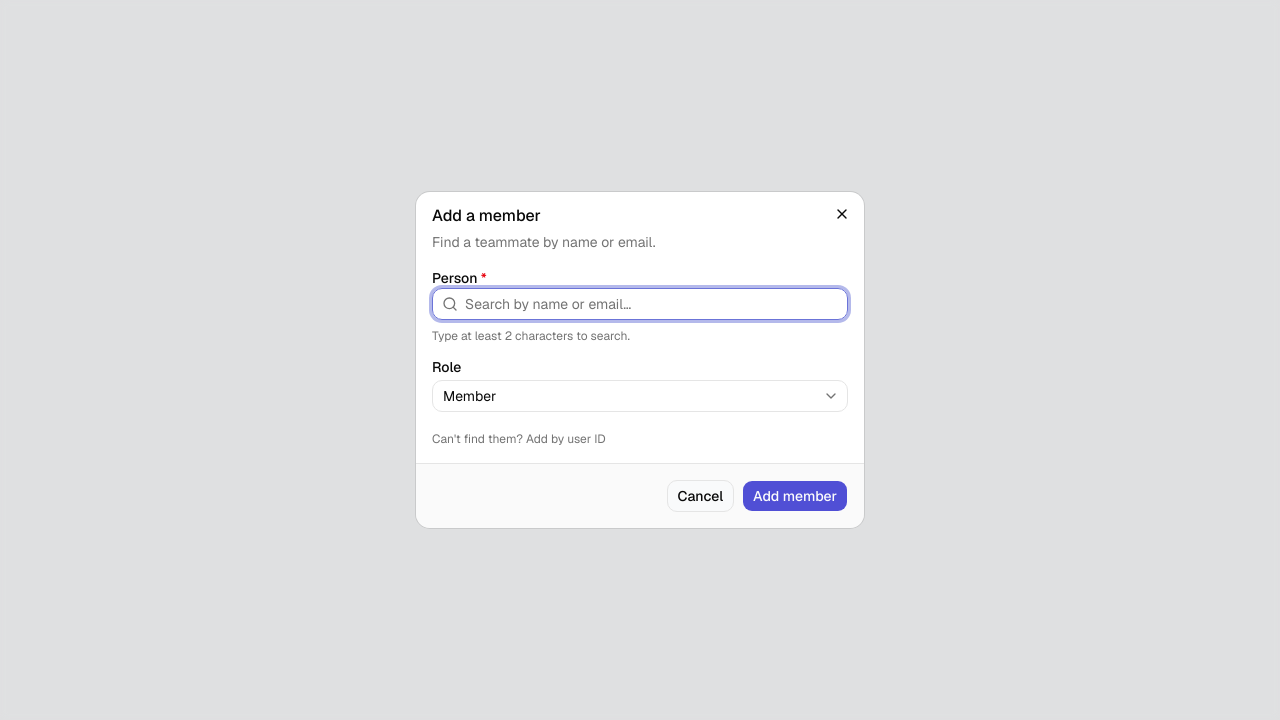
Test: AddMemberDialog (search by name) › falls back to user-ID entry when the server has no search endpoint yet
Type "lena" into the dropdown with placeholder "Search by name or email…" at {"x": 640, "y": 304}, box [432,288,848,320]
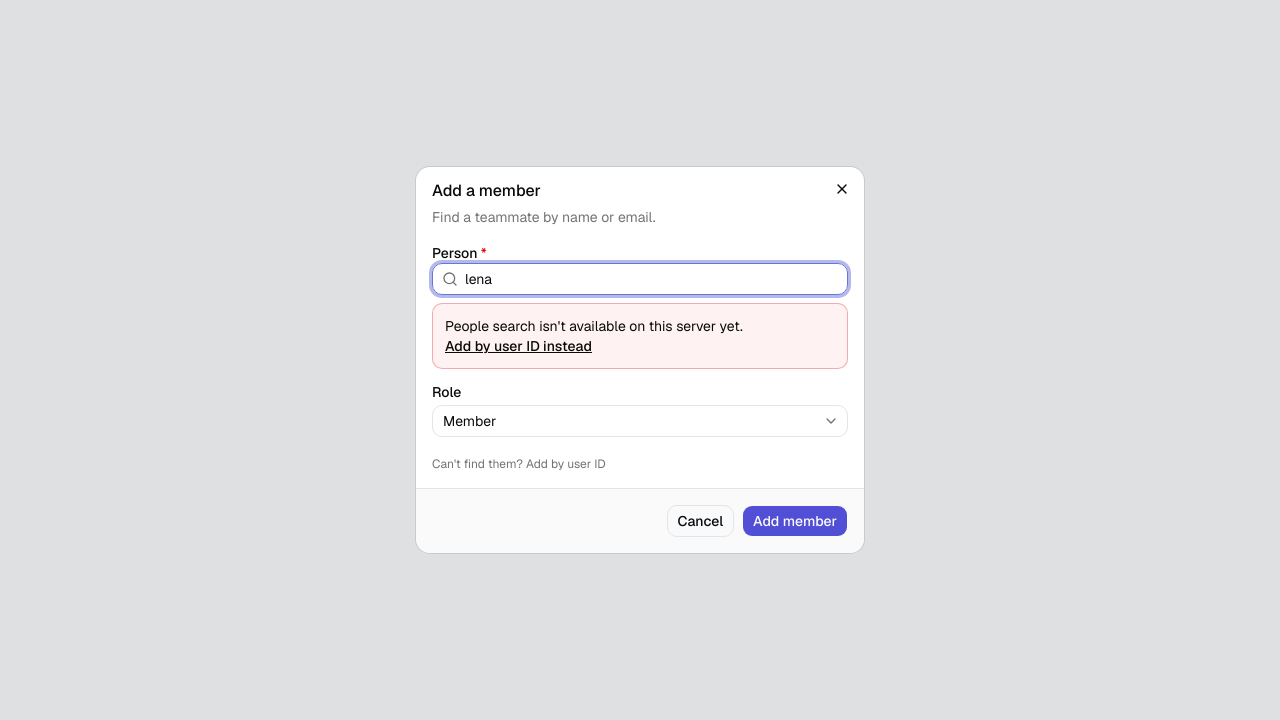
Click the button "Add by user ID instead" at {"x": 518, "y": 346}, box [445,336,592,356]
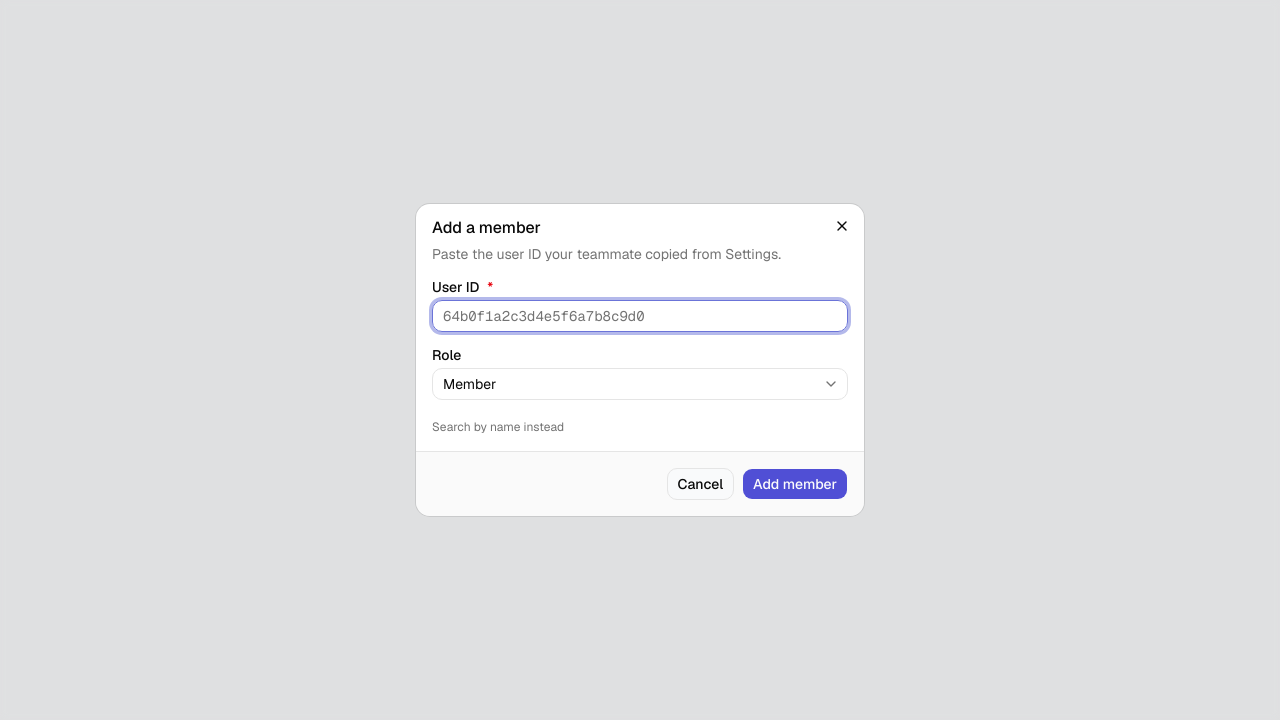
Expected: the field labelled "User ID *" is shown, [432,300,848,332]
